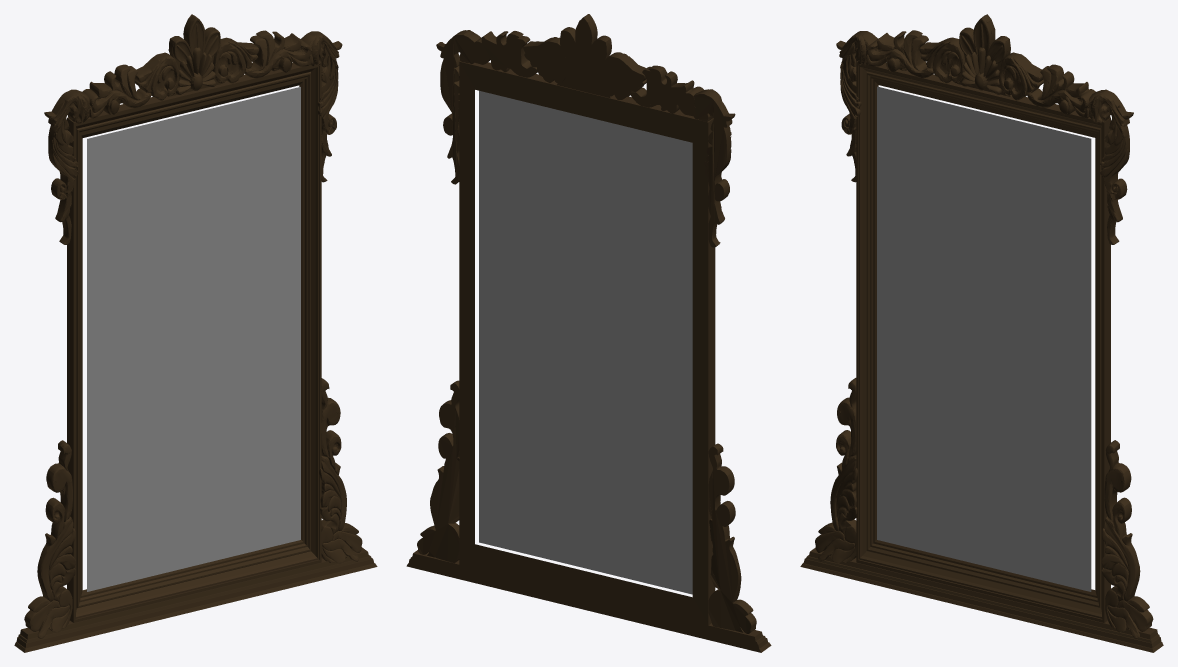
The model's file is Miroir_resize.FBX.
The picture shows the model from 3 angles, left to right: view 1: azimuth 30°, elevation 25°; view 2: azimuth 150°, elevation 25°; view 3: azimuth 330°, elevation 25°; orthographic projection.
Parts seen in each view (by area): view 1: Plane001; view 2: Plane001; view 3: Plane001.
Part boxes in pixels (x1=…): Plane001: x1=14, y1=14, x2=377, y2=652; Plane001: x1=406, y1=14, x2=771, y2=652; Plane001: x1=800, y1=14, x2=1163, y2=652.
Size of the model in its own units: 33.14 by 52.81 by 1.9.
